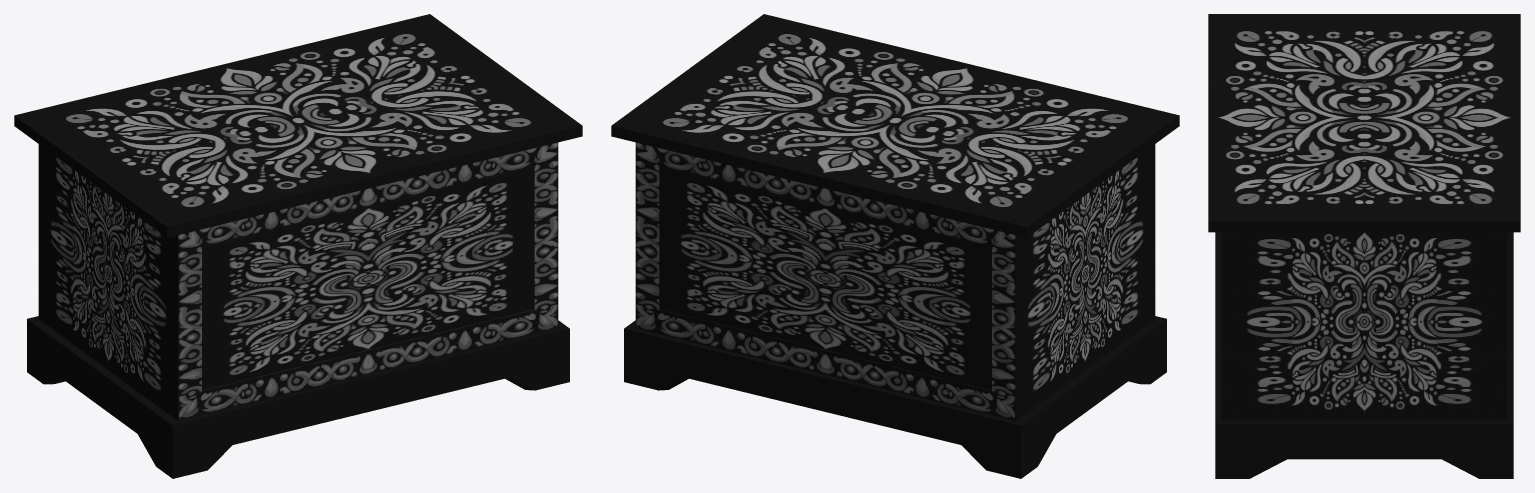
File: baul.glb
The picture shows the model from 3 angles, left to right: view 1: azimuth 30°, elevation 25°; view 2: azimuth 150°, elevation 25°; view 3: azimuth 270°, elevation 25°; orthographic projection. The views are drawn at different scales.
Parts seen in each view (by area): view 1: baul; view 2: baul; view 3: baul.
Boxes of the visible parts, x1,y1,x2,y2 form: baul: (14, 14, 582, 478); baul: (611, 14, 1179, 478); baul: (1208, 14, 1520, 478).
Size of what is drawn, in the model's own units: 1.72 by 1.01 by 1.09.
2 materials, 2 textured.
